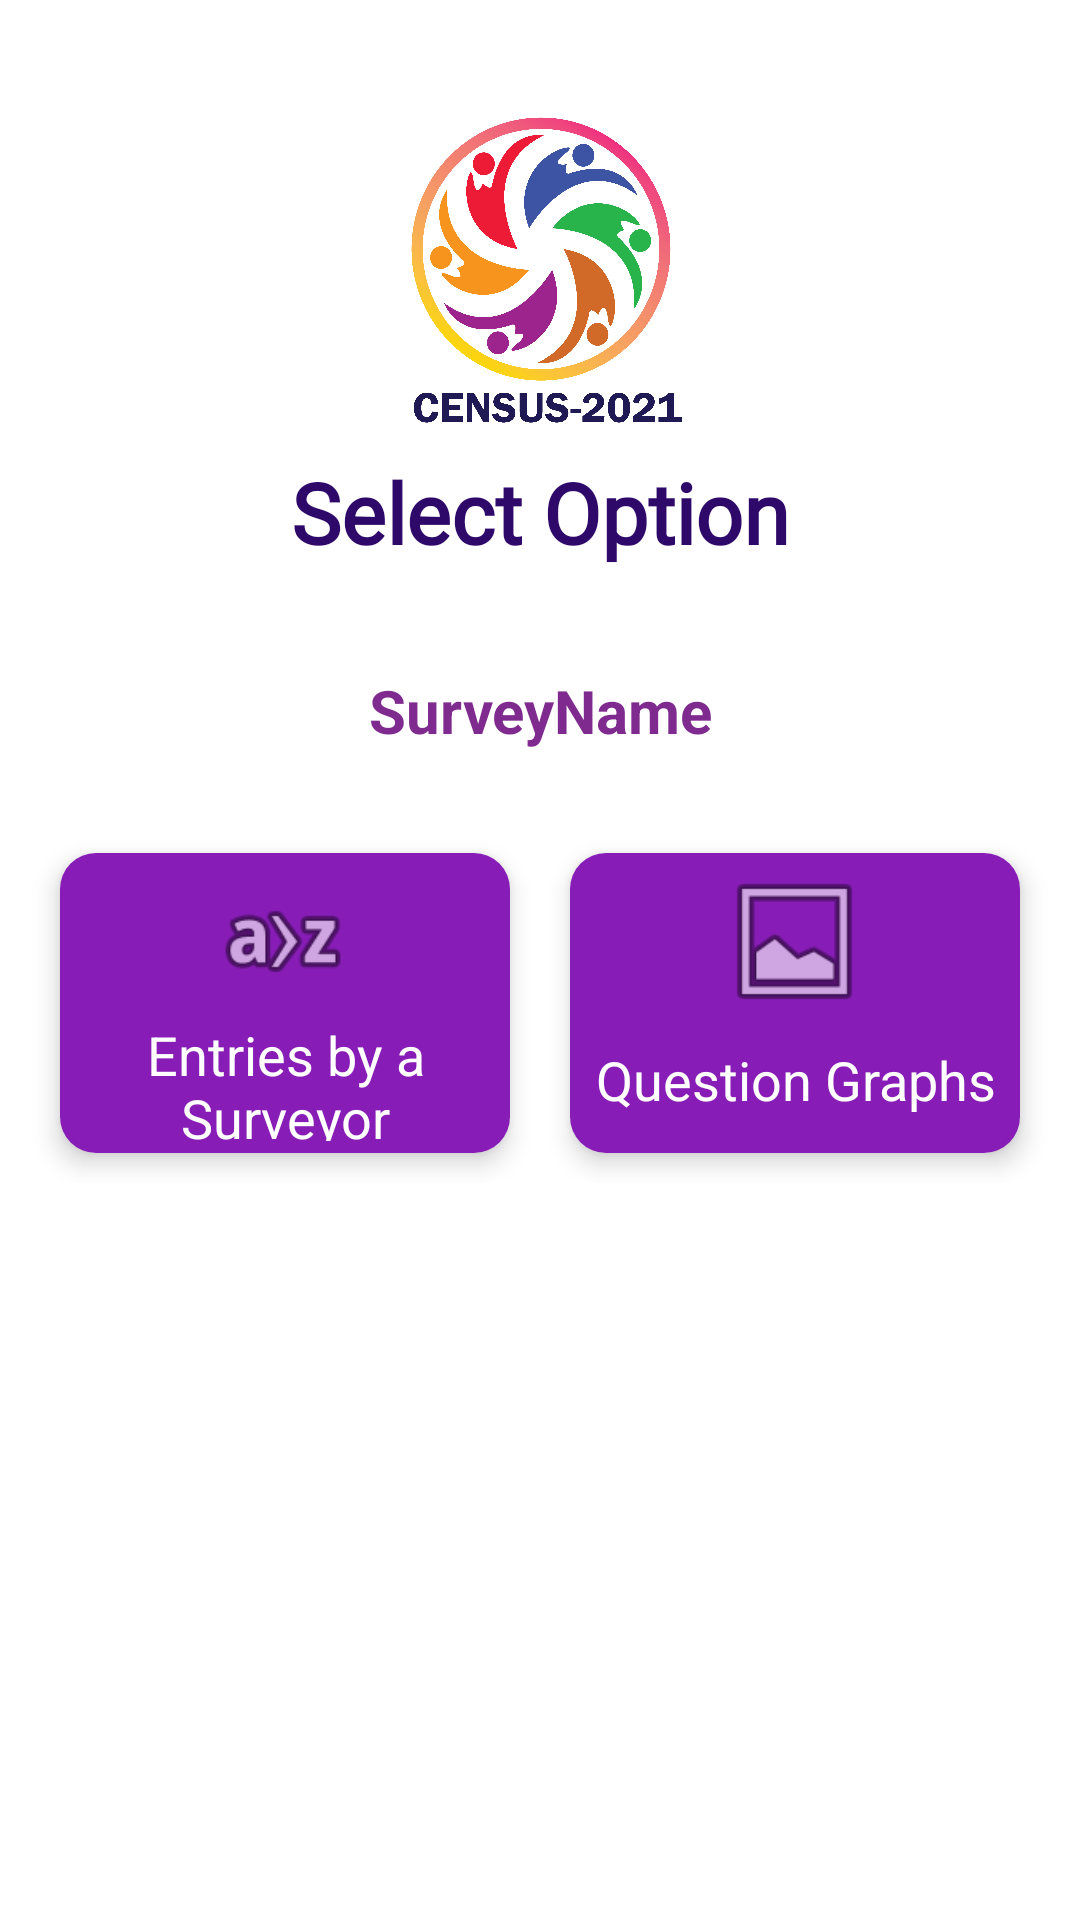

Screen size 1080 x 1920. Icon name, then its center in pixels as [x,y]:
gallery: [794,941]
sort alphabetically: [283,941]
